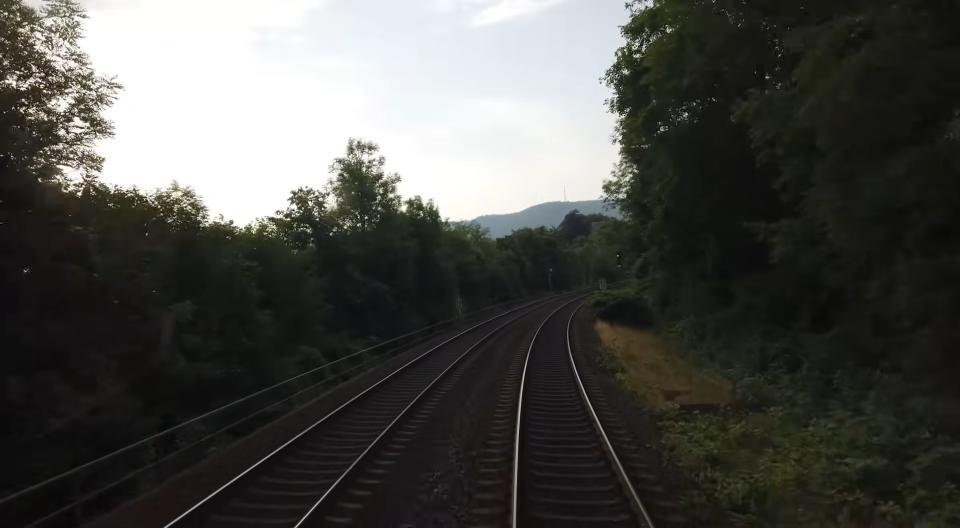Plant: (658, 369, 960, 528), (594, 318, 732, 408), (596, 345, 646, 403), (592, 295, 653, 329)
